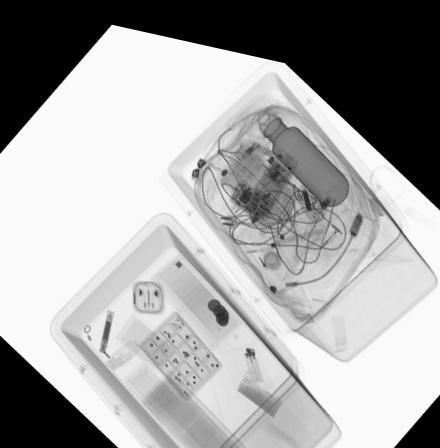Lighter: (240, 335, 265, 370)
